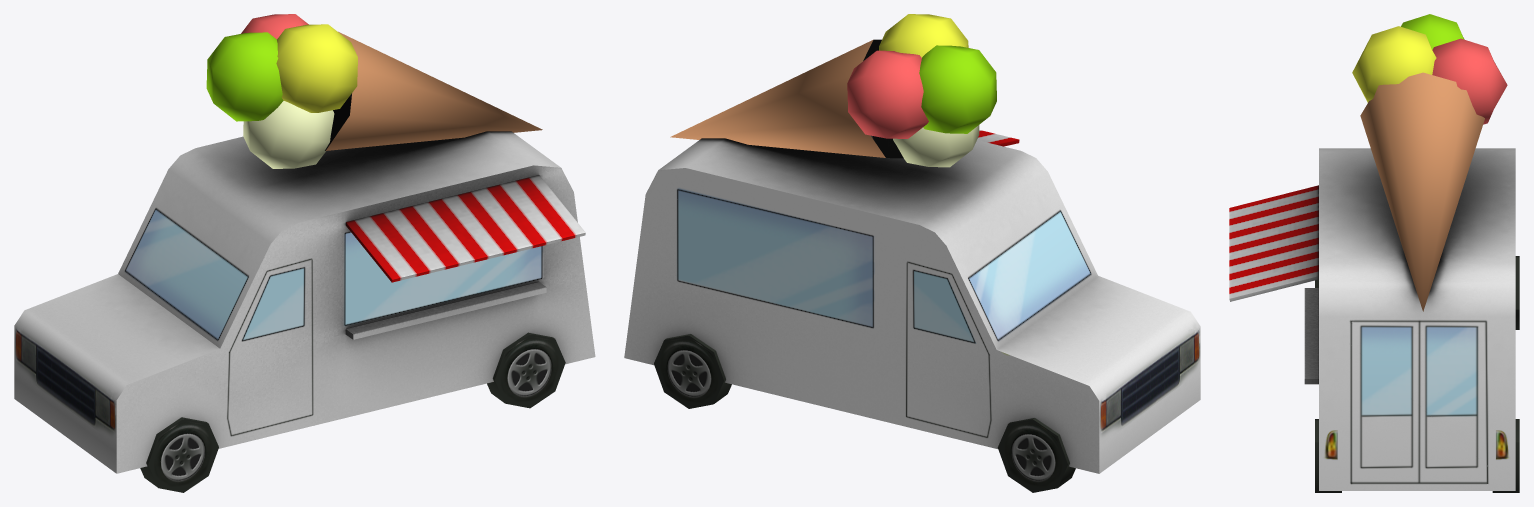
Rendered from Vehicle_IceTruck.FBX.
3 renders of one model, left to right at view 1: azimuth 30°, elevation 25°; view 2: azimuth 150°, elevation 25°; view 3: azimuth 270°, elevation 25°, orthographic. The views are drawn at different scales.
Visible parts, largest first — view 1: OBJ_IceTruck; view 2: OBJ_IceTruck; view 3: OBJ_IceTruck.
Part boxes in pixels (x1,y1,x2,y2): OBJ_IceTruck: (14, 14, 595, 492); OBJ_IceTruck: (624, 14, 1200, 492); OBJ_IceTruck: (1229, 14, 1519, 492).
Size of the model in its own units: 11.77 by 9.14 by 6.39.
